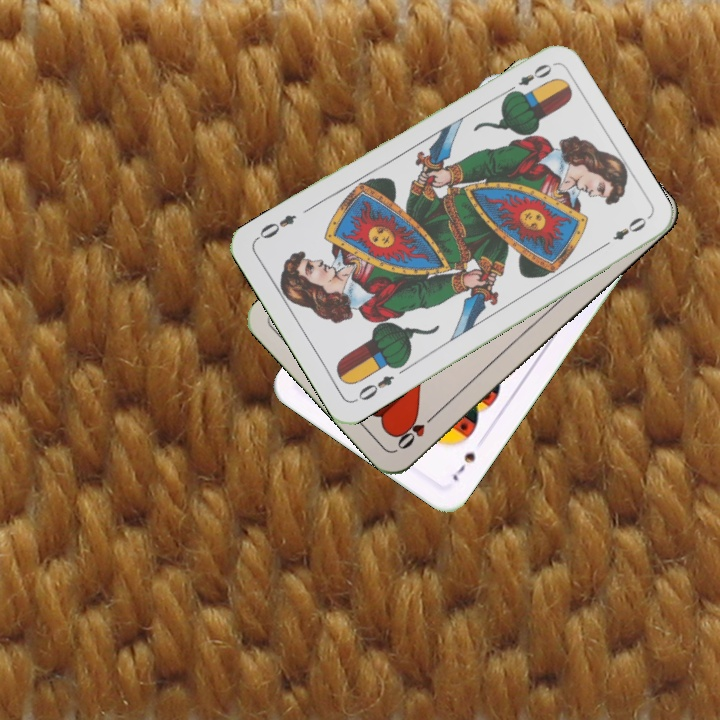EO: (501, 59, 555, 98), (350, 371, 397, 404)
HO: (392, 408, 441, 453)
S7: (448, 448, 478, 484)
